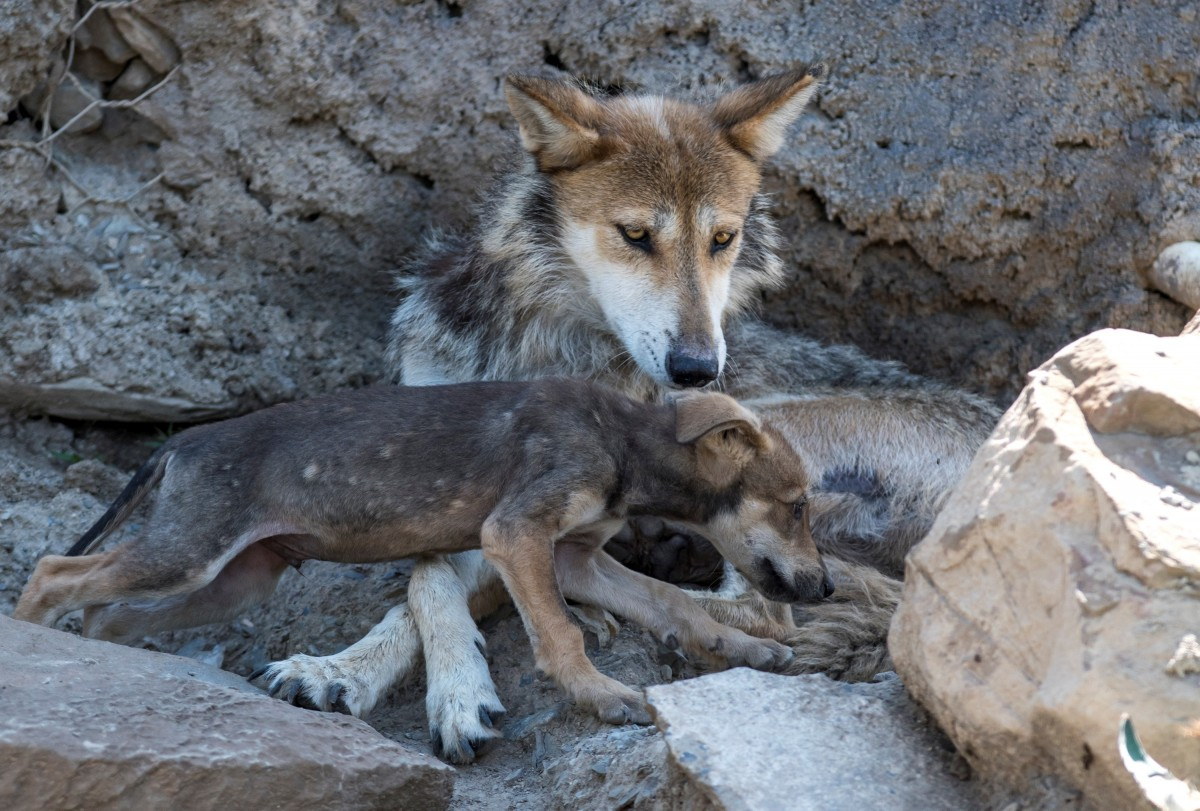Lobo: (484, 52, 846, 383)
